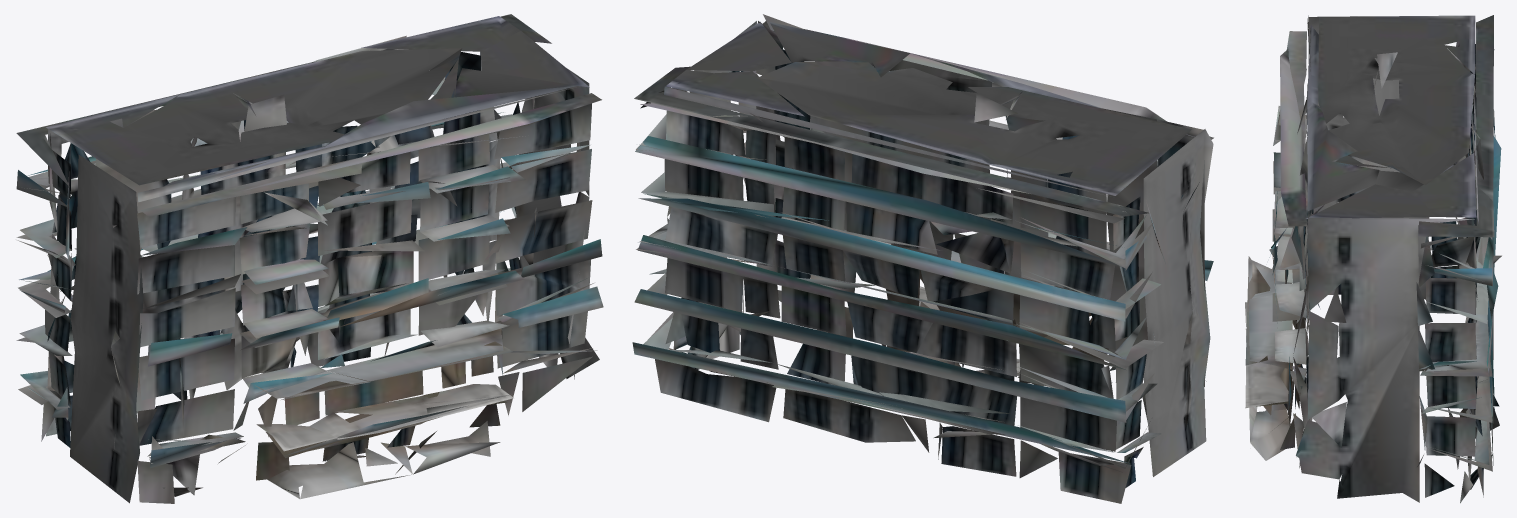
Rendered from stadt_wohnblock_lo.glb.
The picture shows the model from 3 angles, left to right: view 1: azimuth 30°, elevation 25°; view 2: azimuth 150°, elevation 25°; view 3: azimuth 270°, elevation 25°; orthographic projection. The views are drawn at different scales.
Visible parts, largest first — view 1: Prop; view 2: Prop; view 3: Prop.
Part boxes in pixels (x1,y1,x2,y2): Prop: [16, 14, 603, 503]; Prop: [632, 14, 1213, 503]; Prop: [1245, 15, 1501, 503].
Bounding box in the file's own units: 1.58 × 1.06 × 0.7464.
Materials: 1 (1 with a texture image).
